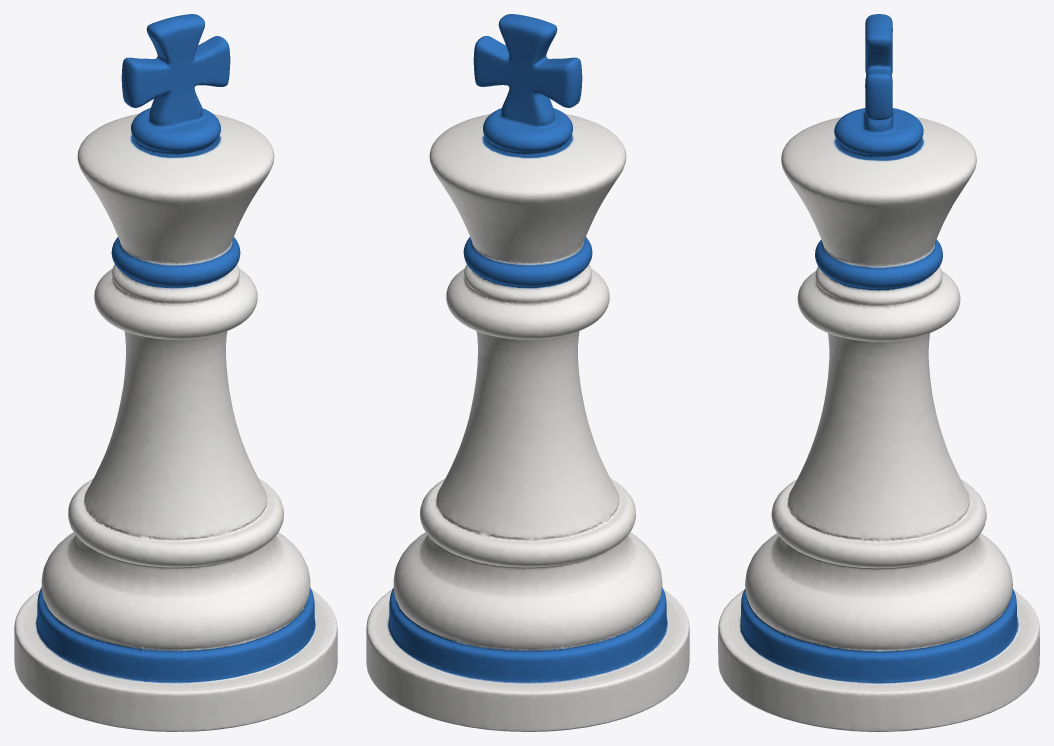
The model's file is king.glb.
3 views of the same model, side by side, from view 1: azimuth 30°, elevation 25°; view 2: azimuth 150°, elevation 25°; view 3: azimuth 270°, elevation 25° (orthographic).
Size of the model in its own units: 0.8622 by 1.9 by 0.8622.
1 material, 1 textured.
